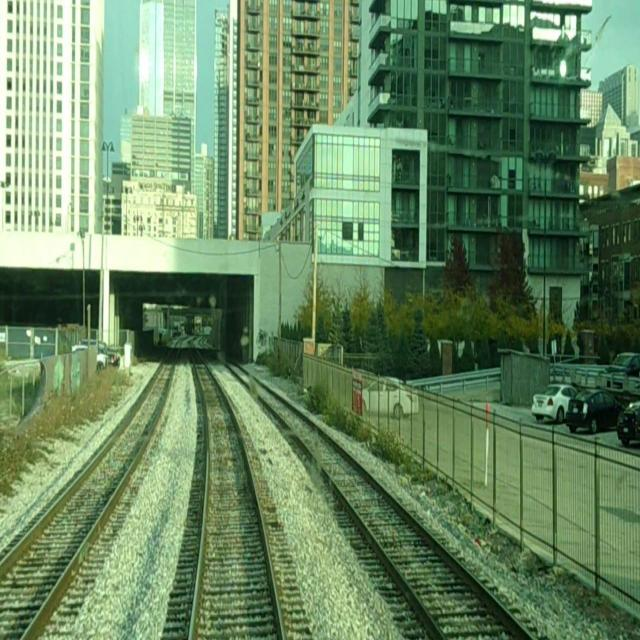rail-track: (230, 364, 530, 639), (0, 344, 178, 639), (190, 342, 280, 639)
